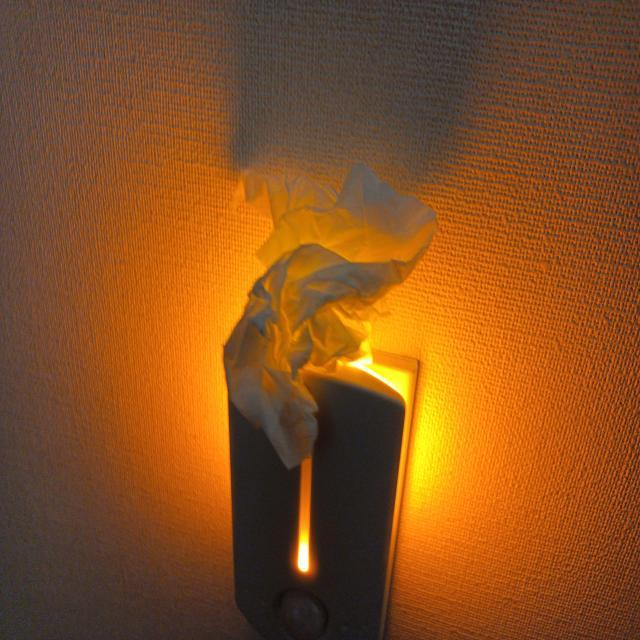Paper: (238, 138, 438, 453)
